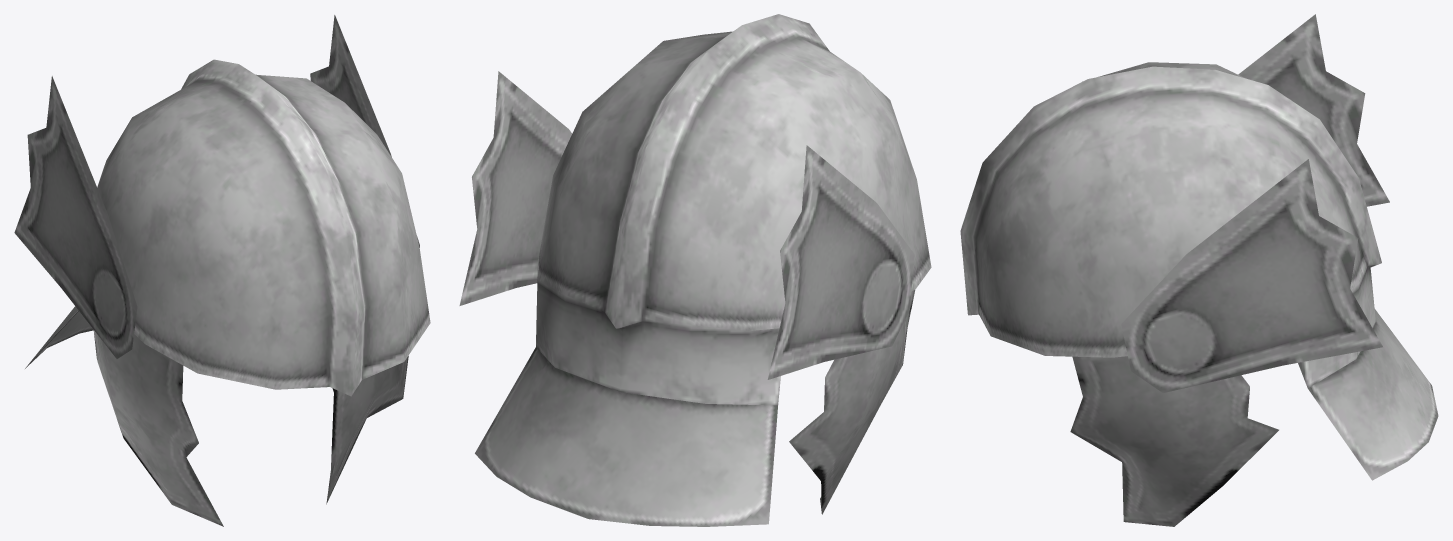
The model's file is rider-helmet-slice-heavycavalry.glb.
The picture shows the model from 3 angles, left to right: view 1: azimuth 30°, elevation 25°; view 2: azimuth 150°, elevation 25°; view 3: azimuth 270°, elevation 25°; orthographic projection. The views are drawn at different scales.
Size of the model in its own units: 0.2585 by 0.3645 by 0.3644.
Materials: 1 (1 with a texture image).
